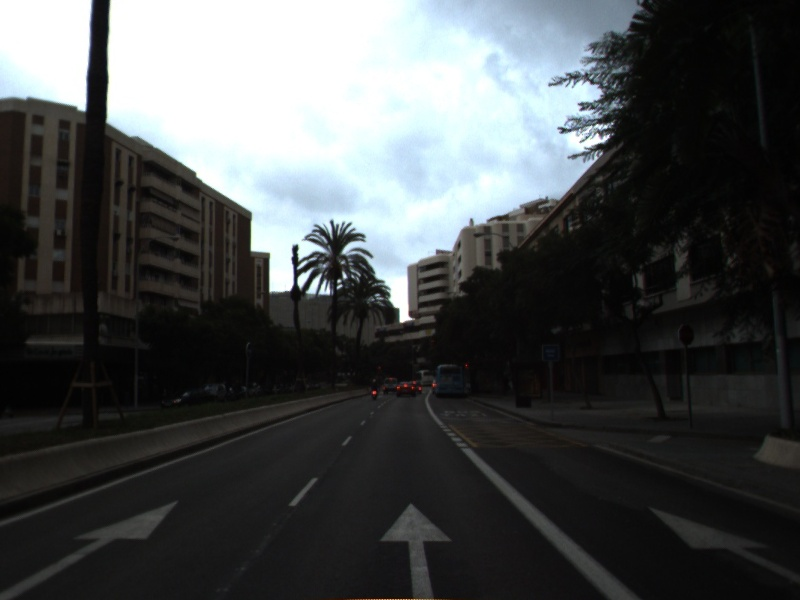STRAIGHT: (1, 495, 183, 600), (644, 504, 800, 586), (375, 499, 457, 600)
